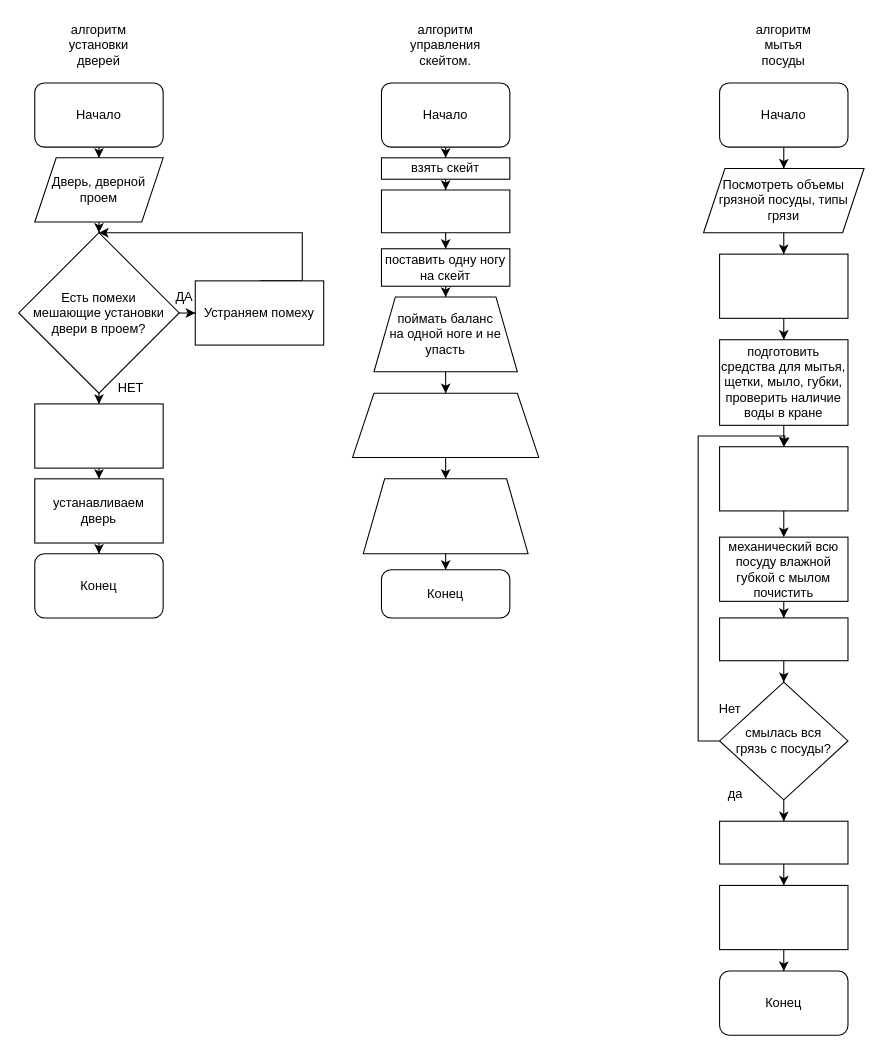
Image size: 883x1054. Some labels were removed from this diagram. The shapes that lost their labels are listed below. From the top down, each one's centre as x and y in pixels, then its label:
the point at 445,211: найти ровную поверхность
the point at 783,285: сложить всю грязную посуду на мойку
the point at 98,435: подготавливаем инструмент для замены двери
the point at 445,424: катиться прямо на одной ноге, отталкиваясь второй от земли
the point at 783,478: замочить в горячей воде сильные загрязнения, смочить остальное
the point at 445,516: во время качения, наклоняя вес тела в нужную сторону ехать в нужною сторону
the point at 783,639: смывать и сложить на сушилку
the point at 783,842: высушить или слить остатки воды
the point at 783,917: разложить посуду по местам
